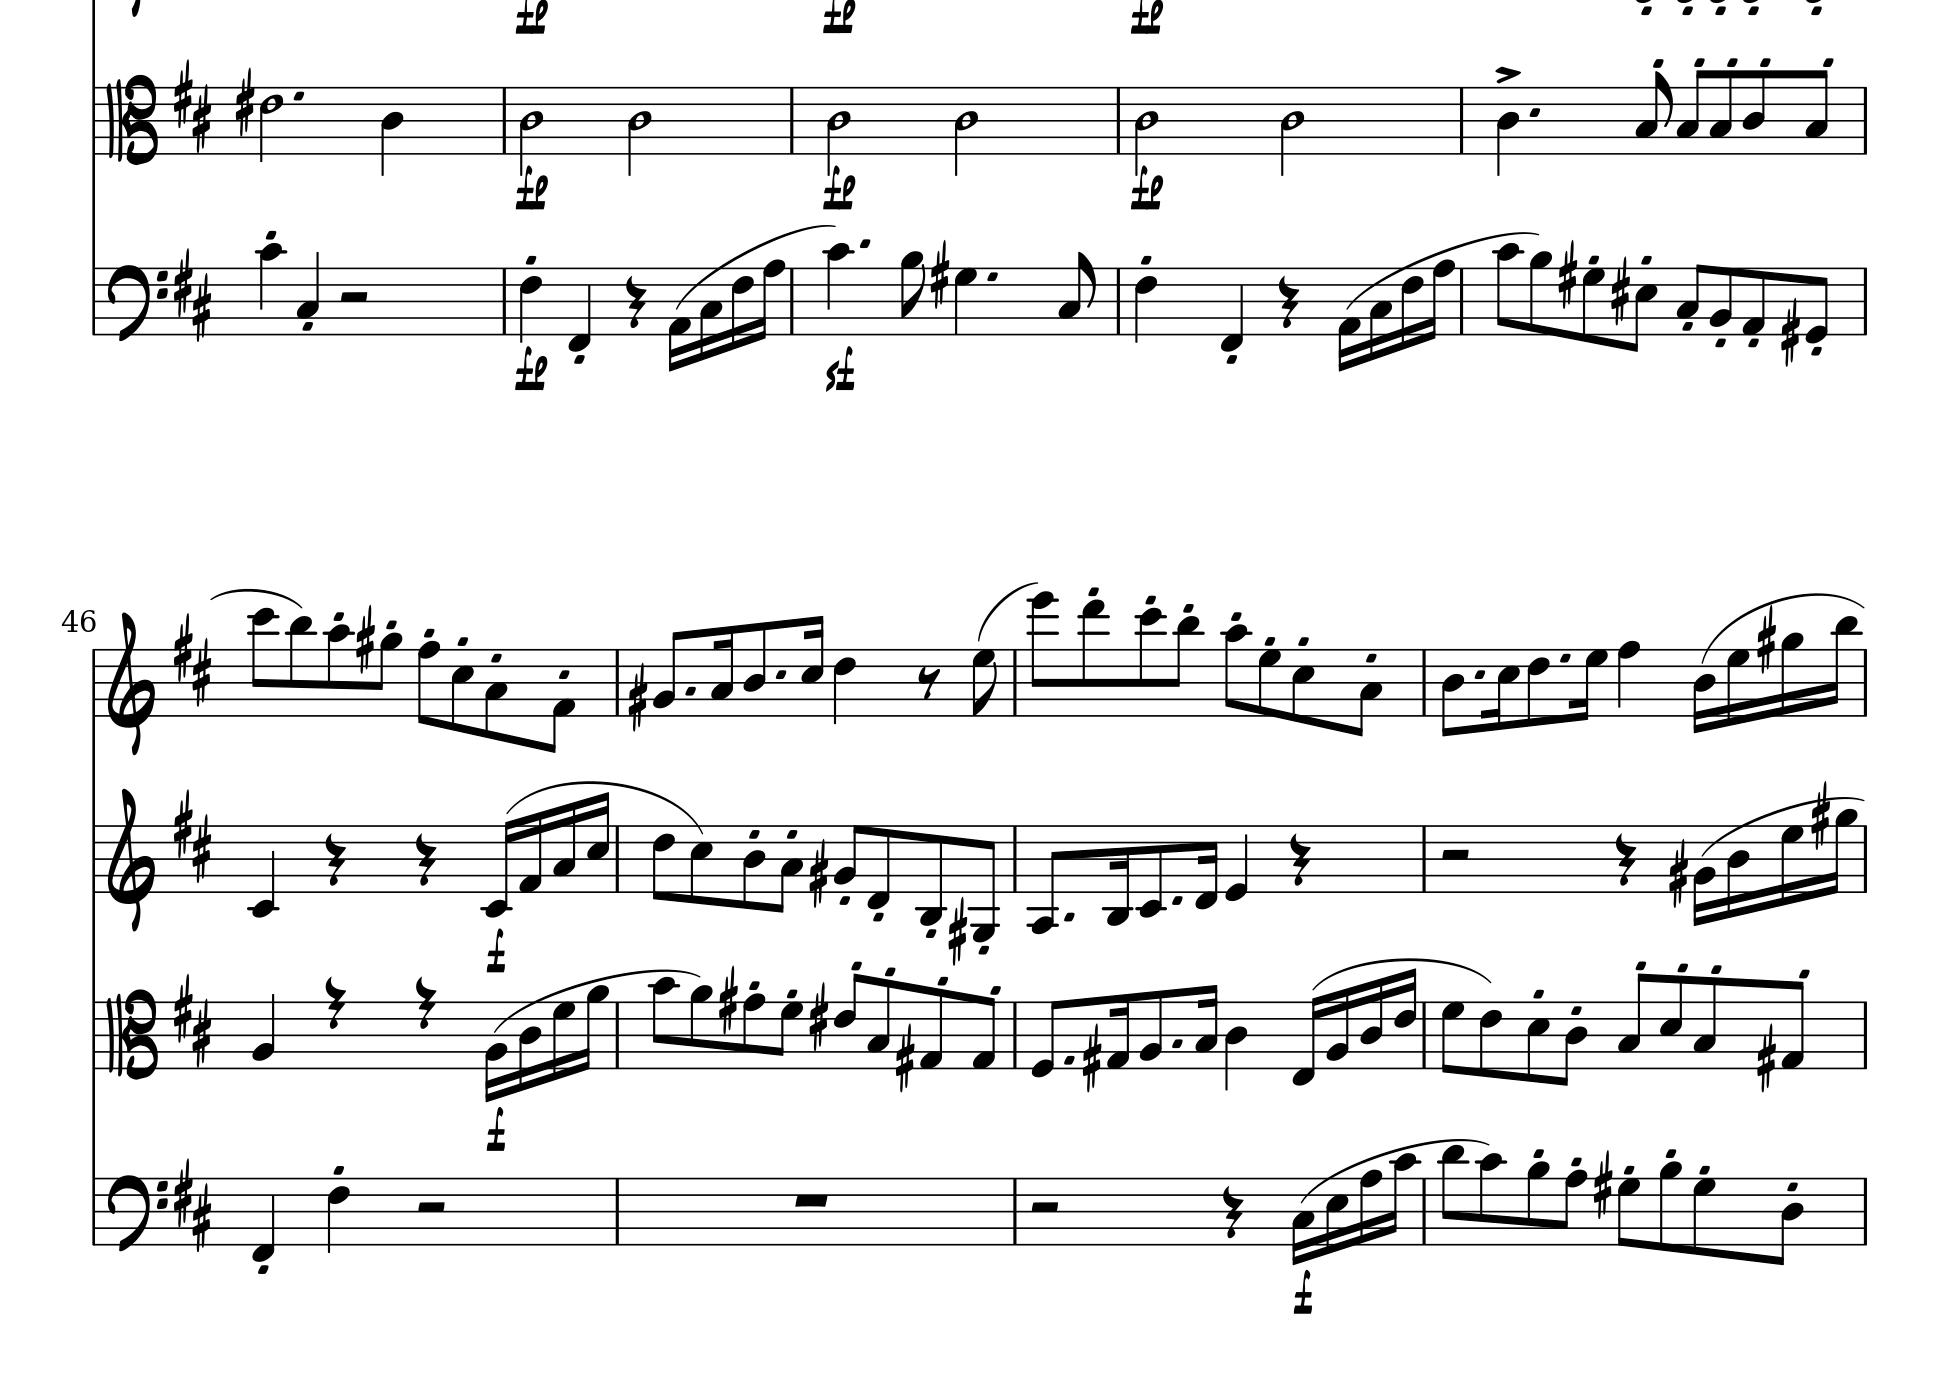16_-1: (1290, 993, 1324, 1087), (1194, 823, 1219, 910)
16_-2: (481, 817, 516, 919)
16_-3: (1102, 823, 1131, 928)
16_1: (1336, 265, 1362, 373), (666, 267, 691, 373), (517, 808, 544, 895), (1105, 991, 1132, 1071)
16_10: (1386, 1152, 1422, 1246)
16_11: (1824, 613, 1860, 718)
16_2: (483, 999, 508, 1102), (1692, 823, 1717, 927), (1326, 987, 1351, 1069)
16_3: (550, 799, 577, 892), (697, 265, 723, 361), (708, 624, 733, 717), (1290, 1176, 1315, 1266), (1368, 265, 1392, 358), (1194, 982, 1218, 1069)
16_4: (1359, 976, 1386, 1069), (1725, 823, 1750, 919), (516, 999, 541, 1090), (1692, 646, 1716, 733)
16_5: (1483, 646, 1519, 732), (799, 613, 825, 718), (585, 790, 610, 895), (1324, 1176, 1350, 1254)
16_6: (1392, 967, 1419, 1071), (1399, 265, 1425, 349), (730, 265, 754, 349)
16_7: (1570, 646, 1609, 721), (1779, 822, 1806, 909), (1725, 646, 1750, 729), (550, 997, 574, 1081)
16_8: (756, 258, 786, 342), (1426, 259, 1456, 342), (1359, 1167, 1383, 1246)
16_9: (577, 982, 610, 1074), (1827, 805, 1858, 895), (1779, 628, 1803, 718)
2_4: (625, 85, 652, 177), (952, 85, 979, 177), (1278, 85, 1305, 177), (517, 85, 544, 172), (1134, 85, 1161, 172), (825, 85, 852, 169)
2_6: (258, 85, 285, 163)
4: (60, 606, 78, 634)
4_-1: (249, 1174, 276, 1264), (1218, 265, 1245, 354), (565, 265, 592, 352)
4_-2: (249, 823, 277, 919)
4_0: (1224, 823, 1251, 903)
4_10: (255, 241, 286, 337), (823, 241, 853, 337)
4_2: (250, 991, 277, 1071)
4_3: (295, 250, 321, 334)
4_4: (1495, 85, 1521, 178), (379, 85, 405, 175), (1224, 999, 1248, 1092)
4_6: (1132, 265, 1159, 343), (325, 1176, 351, 1255), (517, 265, 543, 343), (832, 646, 856, 726)
4_7: (952, 265, 979, 336)
4_8: (1617, 637, 1641, 718)
6: (79, 606, 97, 634)
8_-1: (865, 823, 892, 910)
8_-2: (1137, 823, 1167, 918)
8_-3: (915, 823, 946, 925)
8_-4: (1026, 822, 1062, 936)
8_-5: (969, 823, 1000, 943)
8_0: (1030, 997, 1065, 1078), (1804, 265, 1830, 345)
8_1: (544, 645, 577, 754), (919, 984, 945, 1071), (1782, 979, 1806, 1071), (969, 994, 997, 1071), (1740, 265, 1767, 337)
8_10: (648, 975, 679, 1071), (1494, 241, 1522, 337), (1222, 622, 1251, 718), (1477, 1150, 1506, 1246), (324, 622, 349, 718)
8_11: (1170, 615, 1203, 718), (1438, 1141, 1470, 1248), (286, 613, 315, 717)
8_12: (1137, 606, 1167, 718), (249, 604, 277, 718)
8_13: (1078, 598, 1110, 718)
8_14: (1026, 591, 1059, 717)
8_2: (652, 628, 684, 715), (832, 822, 864, 892), (1138, 987, 1164, 1069), (1708, 264, 1734, 336)
8_3: (1057, 249, 1096, 337), (1617, 972, 1650, 1072), (1347, 646, 1383, 738), (1635, 70, 1672, 156), (771, 823, 802, 915), (1675, 67, 1707, 156), (481, 646, 508, 742), (1692, 976, 1719, 1071), (1803, 67, 1830, 156), (865, 976, 891, 1068), (1708, 69, 1734, 157), (1675, 262, 1705, 336)
8_4: (1770, 1176, 1806, 1267), (1557, 1000, 1590, 1087), (1440, 646, 1465, 739), (1741, 69, 1768, 156), (742, 619, 766, 717), (741, 823, 766, 910)
8_5: (1627, 265, 1659, 354), (1659, 973, 1684, 1071), (448, 646, 475, 733), (1524, 999, 1551, 1084), (1290, 646, 1317, 726), (688, 823, 714, 906)
8_6: (832, 970, 864, 1071), (1477, 999, 1503, 1080), (1527, 646, 1551, 729), (651, 823, 675, 903)
8_7: (772, 999, 802, 1069), (1690, 1174, 1716, 1257), (970, 646, 999, 718), (1440, 999, 1465, 1075), (1581, 265, 1605, 345), (1615, 1176, 1641, 1248), (1257, 646, 1281, 718)
8_8: (415, 639, 441, 727), (1558, 1168, 1587, 1246), (741, 991, 766, 1071)
8_9: (373, 631, 403, 718), (1656, 1159, 1683, 1252), (898, 250, 925, 337), (1525, 1159, 1551, 1246), (688, 982, 712, 1071), (1527, 250, 1551, 337)
Accent_above: (1494, 63, 1524, 84)
Cclef: (103, 73, 159, 166), (105, 985, 157, 1080)
D_S: (171, 58, 214, 153), (172, 246, 213, 339), (172, 786, 211, 880), (172, 972, 211, 1066), (172, 610, 211, 703), (172, 1155, 211, 1246)
Fclef: (106, 262, 168, 345), (106, 1171, 166, 1255)
Gclef: (106, 786, 157, 931), (106, 610, 156, 754)
Rests1: (790, 1189, 832, 1209)
Rests2: (1437, 844, 1473, 865), (336, 286, 372, 306), (412, 1198, 448, 1216), (1027, 1198, 1062, 1216)
Rests4: (622, 271, 648, 331), (322, 973, 348, 1030), (412, 829, 438, 886), (412, 973, 438, 1030), (1287, 831, 1312, 888), (1276, 273, 1300, 331), (322, 829, 346, 888), (1221, 1183, 1245, 1240), (1614, 831, 1638, 886)
Rests8: (916, 664, 942, 700)
Sharp: (625, 663, 648, 733), (807, 981, 829, 1051), (717, 966, 739, 1035), (1755, 1024, 1777, 1093), (1609, 258, 1632, 325), (928, 238, 949, 310), (1593, 1150, 1614, 1222), (234, 67, 255, 138), (1557, 240, 1578, 310), (354, 604, 375, 675), (808, 840, 829, 909), (1668, 838, 1689, 907), (1755, 607, 1776, 675), (1081, 1024, 1102, 1092), (1809, 784, 1830, 850), (946, 900, 967, 964), (1780, 301, 1800, 367), (895, 1024, 915, 1090)
Single_barline: (1857, 267, 1873, 334), (1417, 1000, 1434, 1068), (1857, 1000, 1873, 1068), (1453, 87, 1470, 153), (1416, 825, 1432, 891), (1110, 87, 1126, 151), (1110, 268, 1126, 331), (85, 85, 100, 154), (1858, 85, 1873, 154), (1857, 648, 1872, 717), (1455, 267, 1470, 334), (85, 825, 100, 892), (1008, 1000, 1023, 1068), (1858, 1177, 1873, 1245), (85, 268, 100, 334), (610, 649, 625, 715), (1416, 649, 1431, 715), (1008, 826, 1023, 892), (85, 1000, 100, 1066), (85, 1177, 100, 1243), (1416, 1177, 1431, 1243), (610, 1177, 625, 1243), (1008, 1177, 1023, 1243), (496, 87, 511, 151), (784, 87, 799, 151), (784, 268, 799, 333), (1008, 649, 1023, 714), (610, 826, 625, 891), (496, 268, 511, 331), (1858, 823, 1872, 892), (87, 649, 100, 715), (610, 1002, 624, 1066)
Slur: (976, 580, 1041, 640), (207, 586, 307, 607)
dot: (1170, 1035, 1186, 1051), (1557, 649, 1575, 664), (1062, 907, 1077, 925), (291, 87, 307, 102), (1527, 105, 1545, 118), (856, 235, 871, 250), (1170, 892, 1185, 907), (985, 268, 999, 283), (774, 666, 787, 681), (684, 684, 697, 697), (1474, 667, 1488, 679), (1062, 1053, 1075, 1065)
f: (1291, 1267, 1315, 1317), (484, 1105, 507, 1153), (484, 927, 507, 973)
ff: (513, 345, 547, 391)
fp: (514, 163, 547, 211), (1131, 163, 1164, 211), (823, 163, 855, 211), (514, 1, 547, 34), (1131, 1, 1164, 34), (823, 1, 855, 34)
sf: (823, 346, 856, 394)
